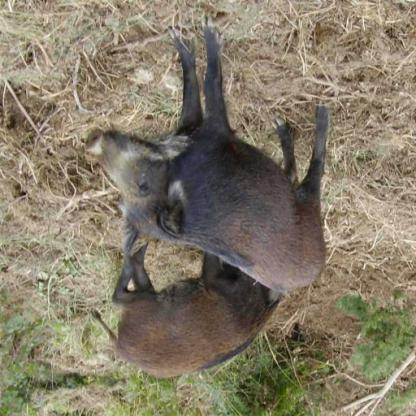boar: (97, 71, 392, 288), (82, 250, 268, 392)
